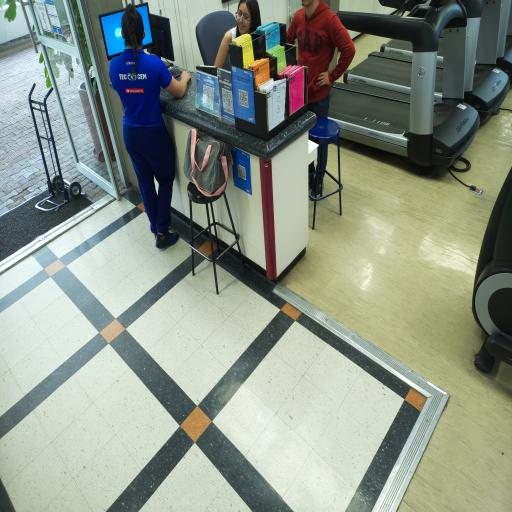person: (110, 5, 190, 248), (287, 0, 355, 118), (215, 0, 261, 67)
